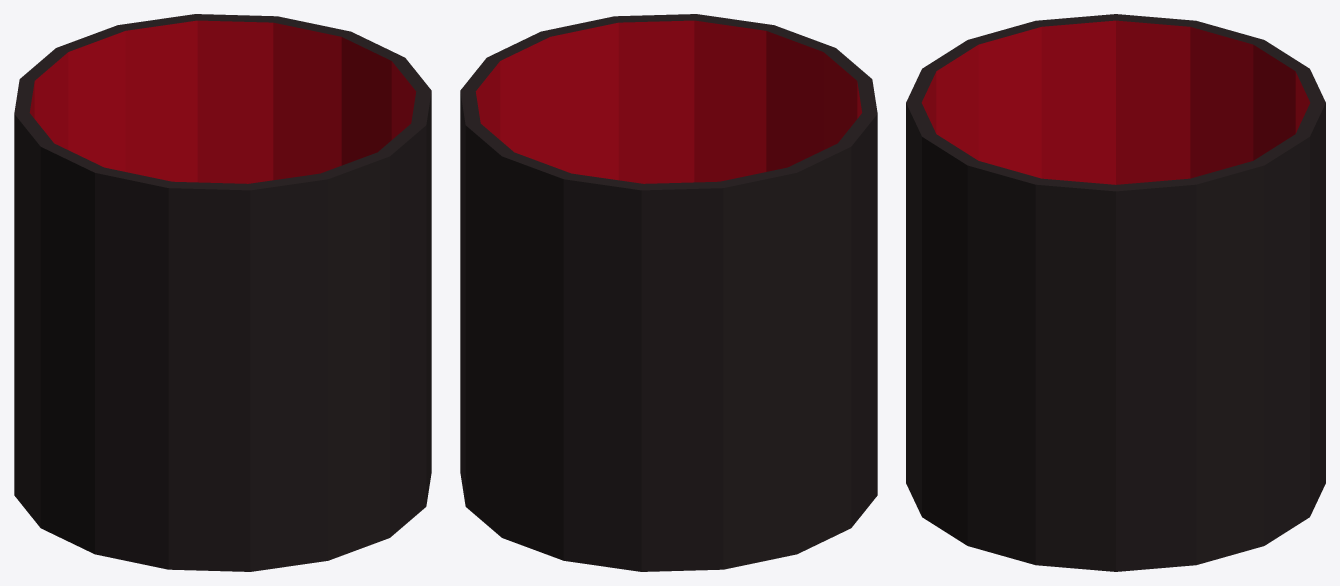
Rendered from yahtzee_cup.glb.
The picture shows the model from 3 angles, left to right: view 1: azimuth 30°, elevation 25°; view 2: azimuth 150°, elevation 25°; view 3: azimuth 270°, elevation 25°; orthographic projection.
Parts seen in each view (by area): view 1: CupOuter, CupInner; view 2: CupOuter, CupInner; view 3: CupOuter, CupInner.
Part boxes in pixels (x1,y1,x2,y2): CupOuter: [14, 14, 431, 571]; CupInner: [29, 20, 416, 183]; CupOuter: [460, 14, 877, 571]; CupInner: [475, 20, 862, 183]; CupOuter: [906, 14, 1325, 571]; CupInner: [921, 20, 1310, 184].
Bounding box in the file's own units: 0.27 × 0.27 × 0.27.
